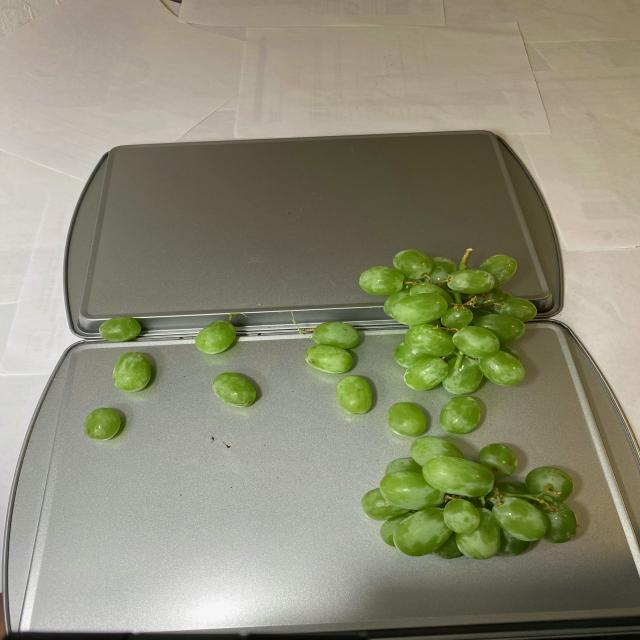Grapes: (309, 247, 583, 557), (86, 314, 260, 432)
